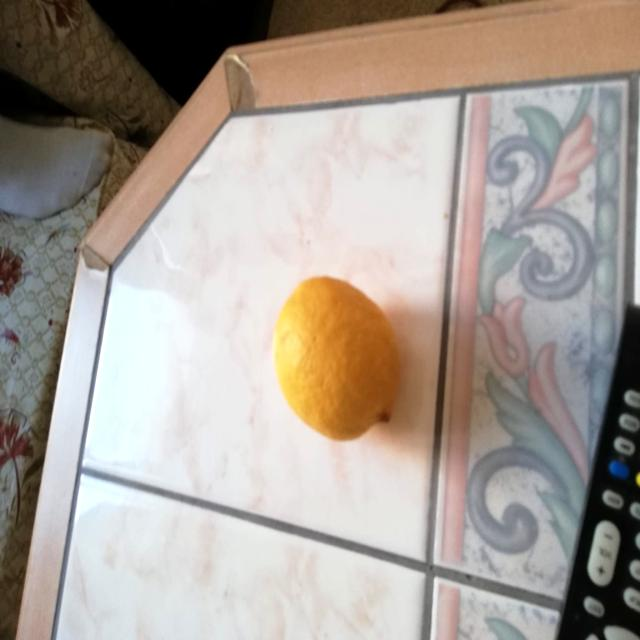lemon: (272, 266, 404, 444)
